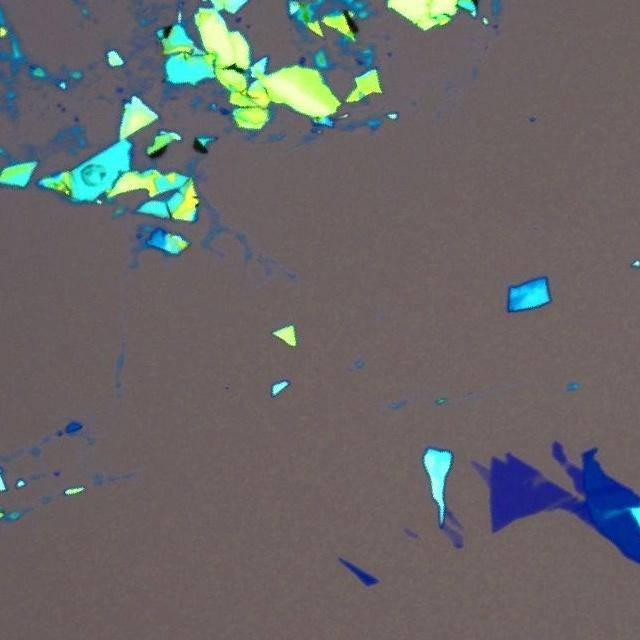monolayer-eWW4: (468, 458, 491, 485), (543, 496, 577, 513), (441, 521, 463, 546), (445, 506, 462, 528), (402, 526, 418, 538), (532, 473, 546, 486), (560, 458, 572, 469)
